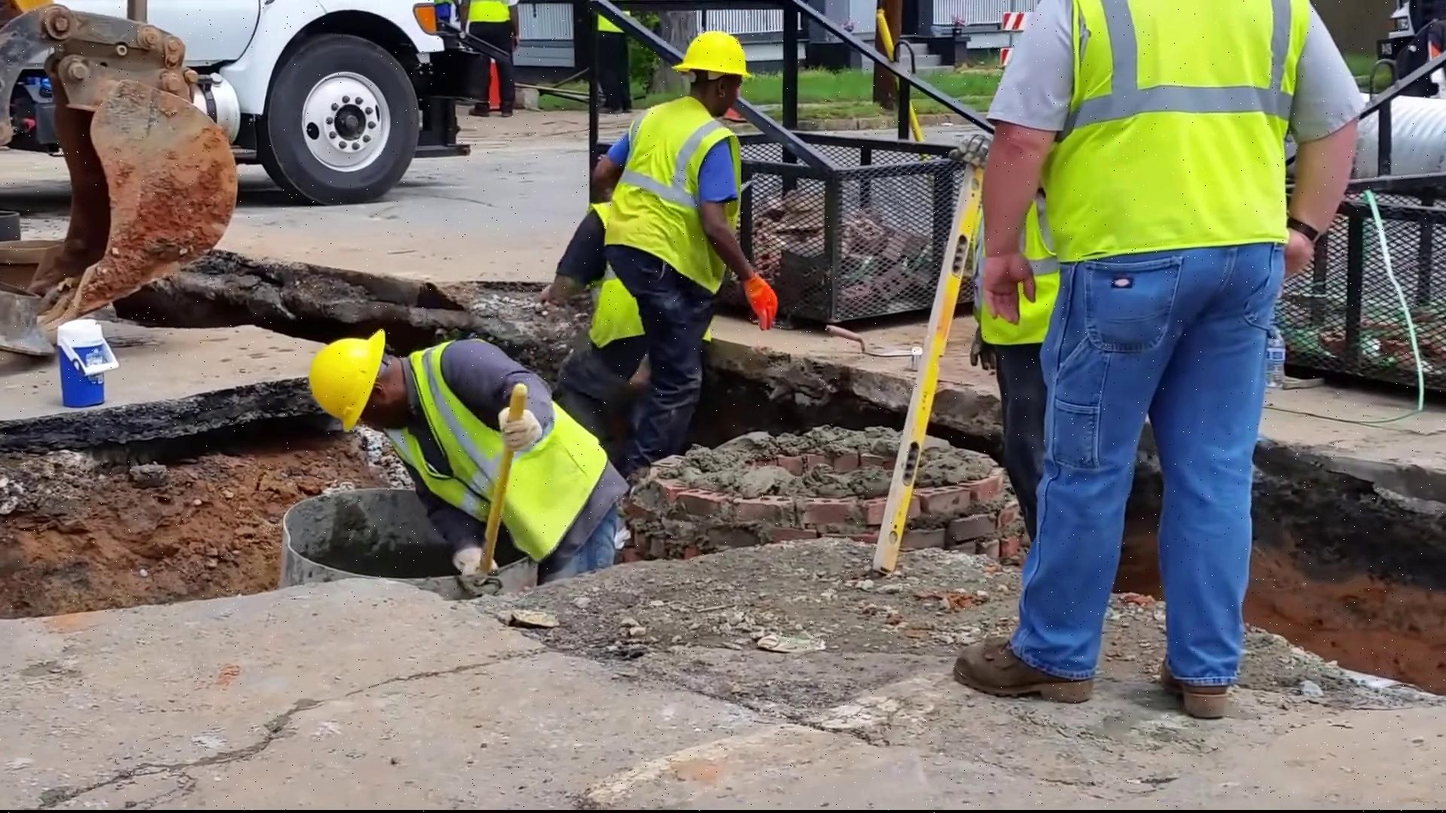Hard_hat: (307, 330, 389, 438), (674, 24, 746, 87)
Vest: (1042, 0, 1350, 255), (407, 327, 617, 562), (586, 105, 754, 311), (952, 161, 1080, 337)
